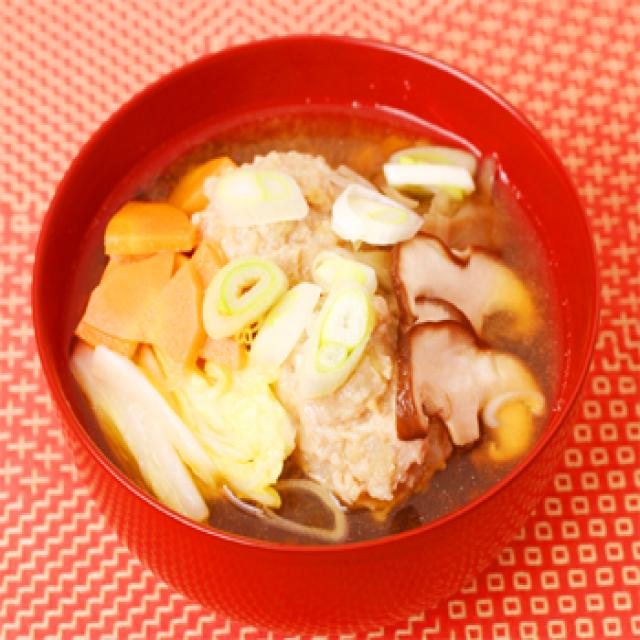汤锅炖物: (29, 28, 602, 627)
